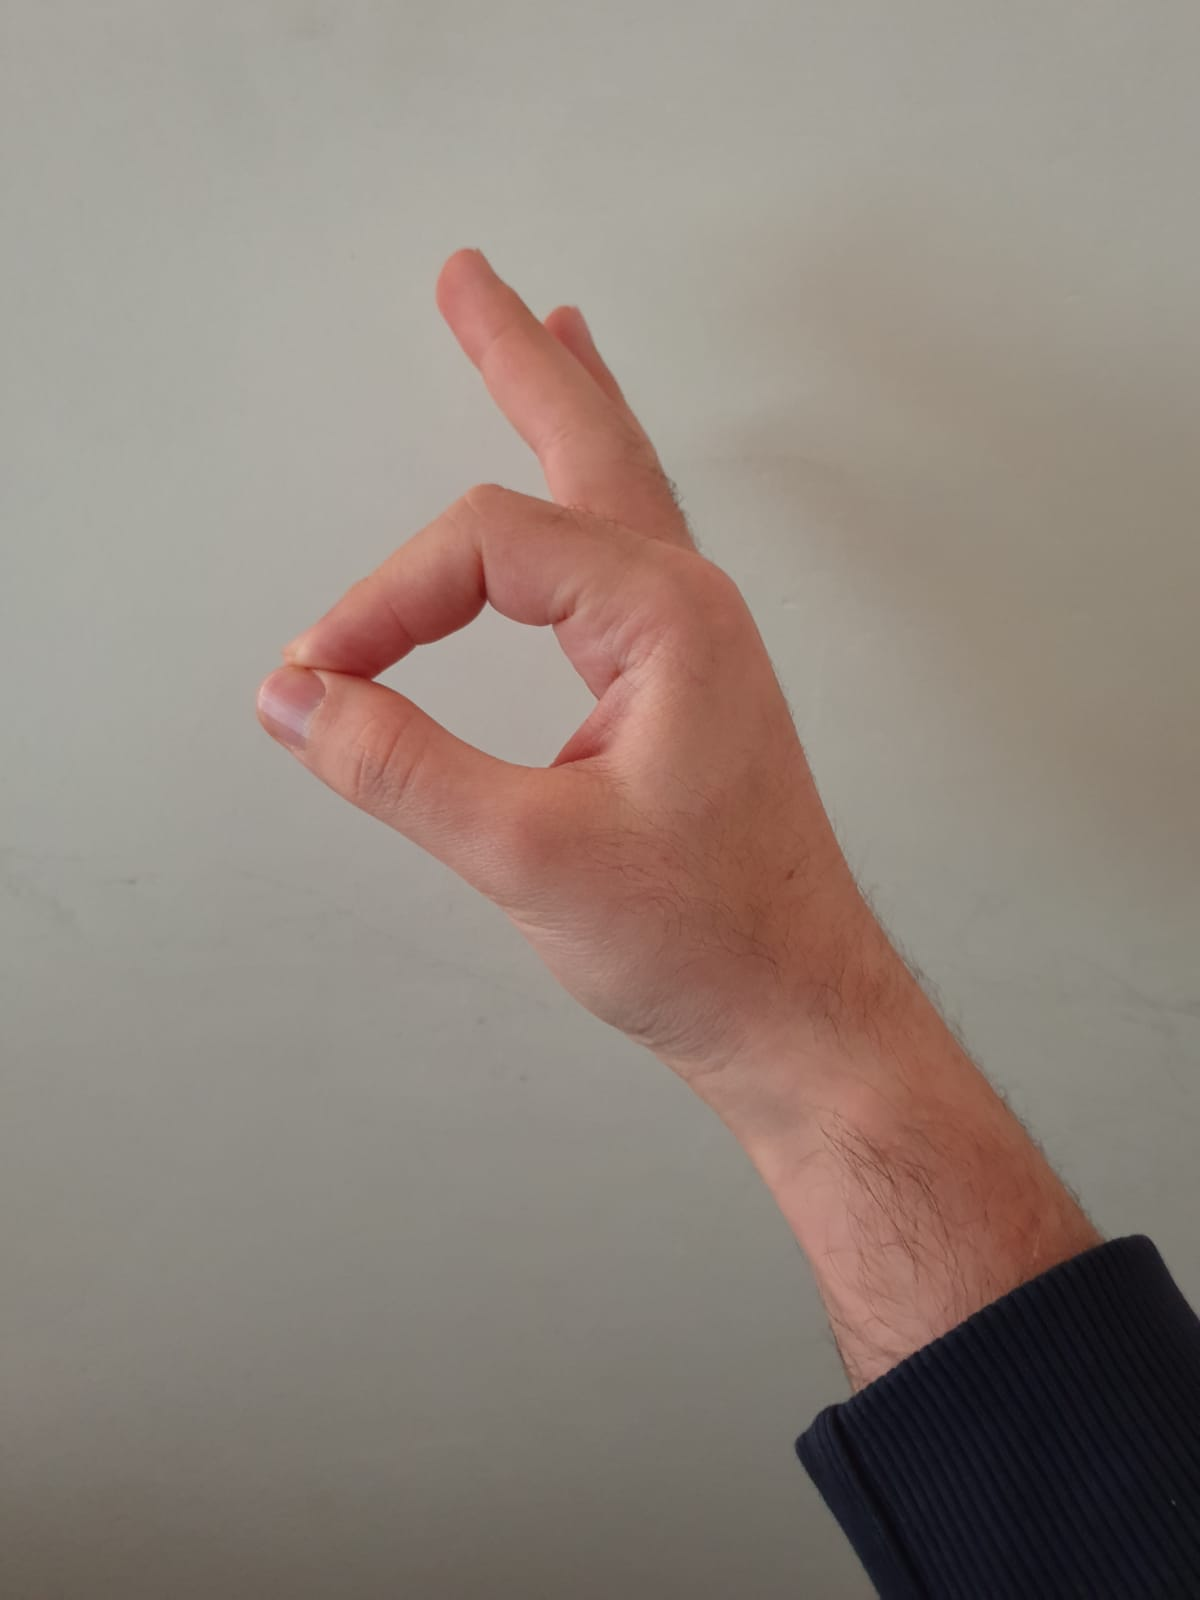OK: (255, 243, 1092, 1390)
